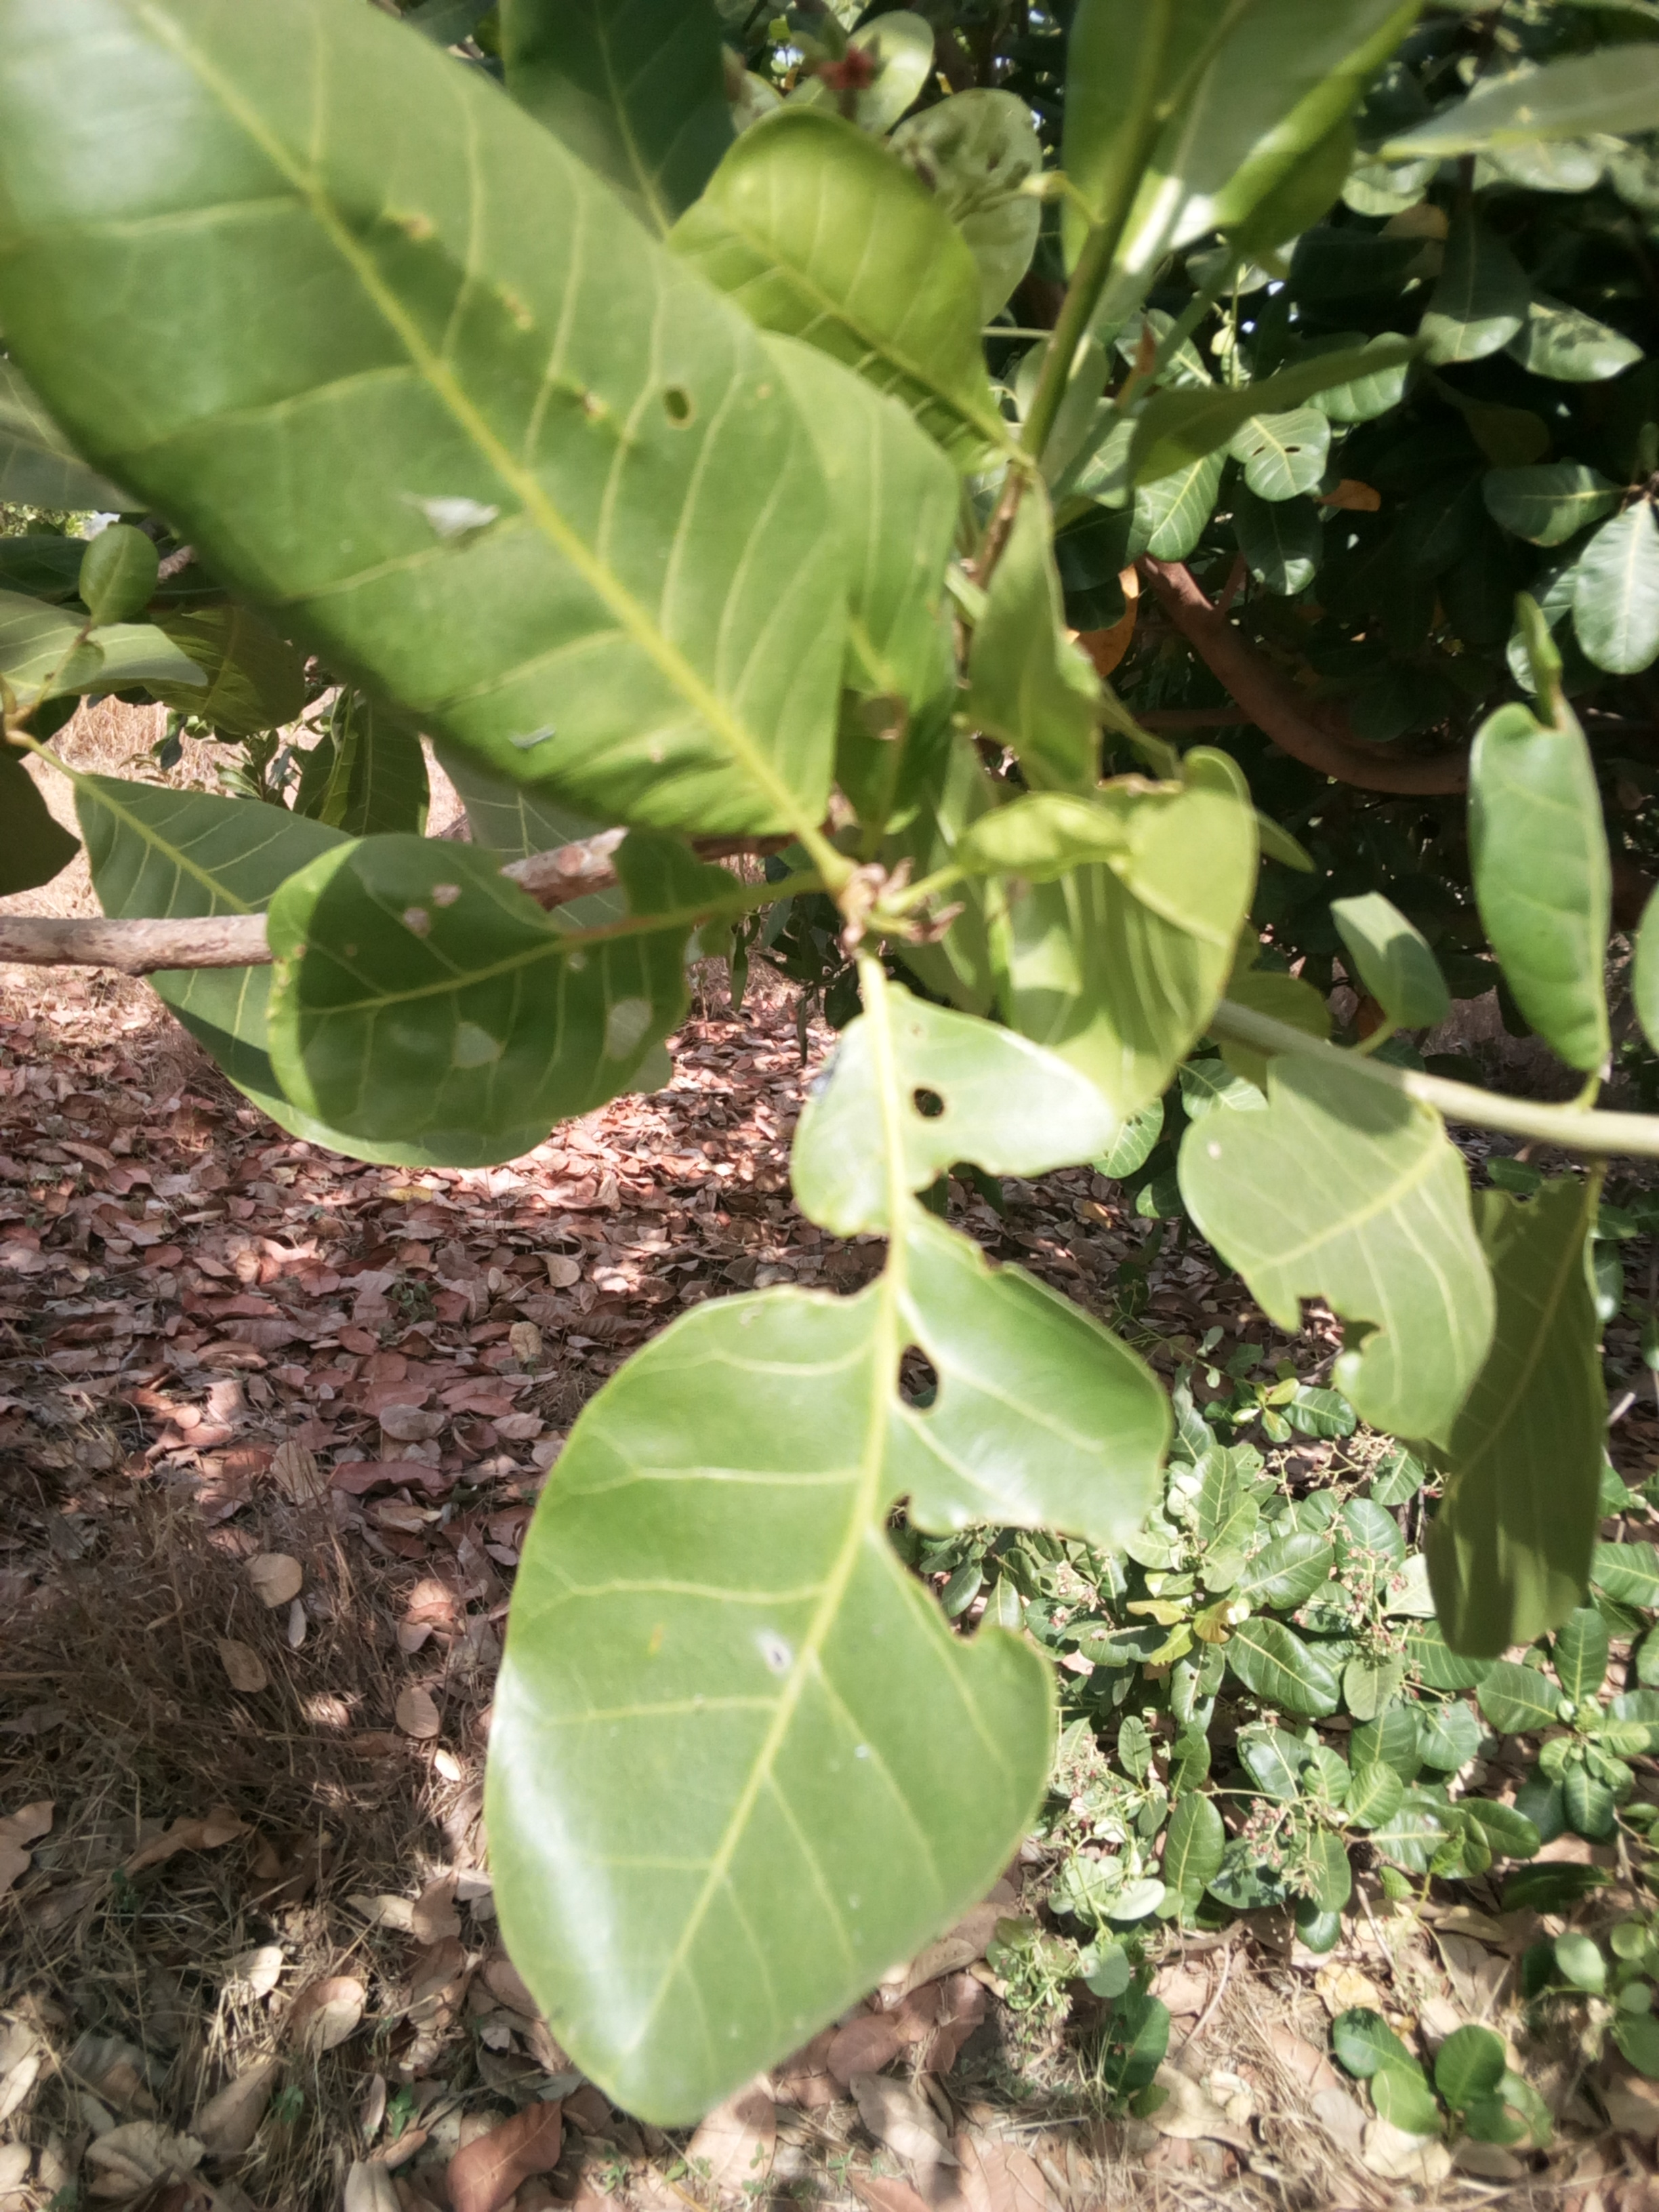Anoplocnemis curvipes: (514, 1045, 1148, 2092), (1199, 1062, 1504, 1435)
